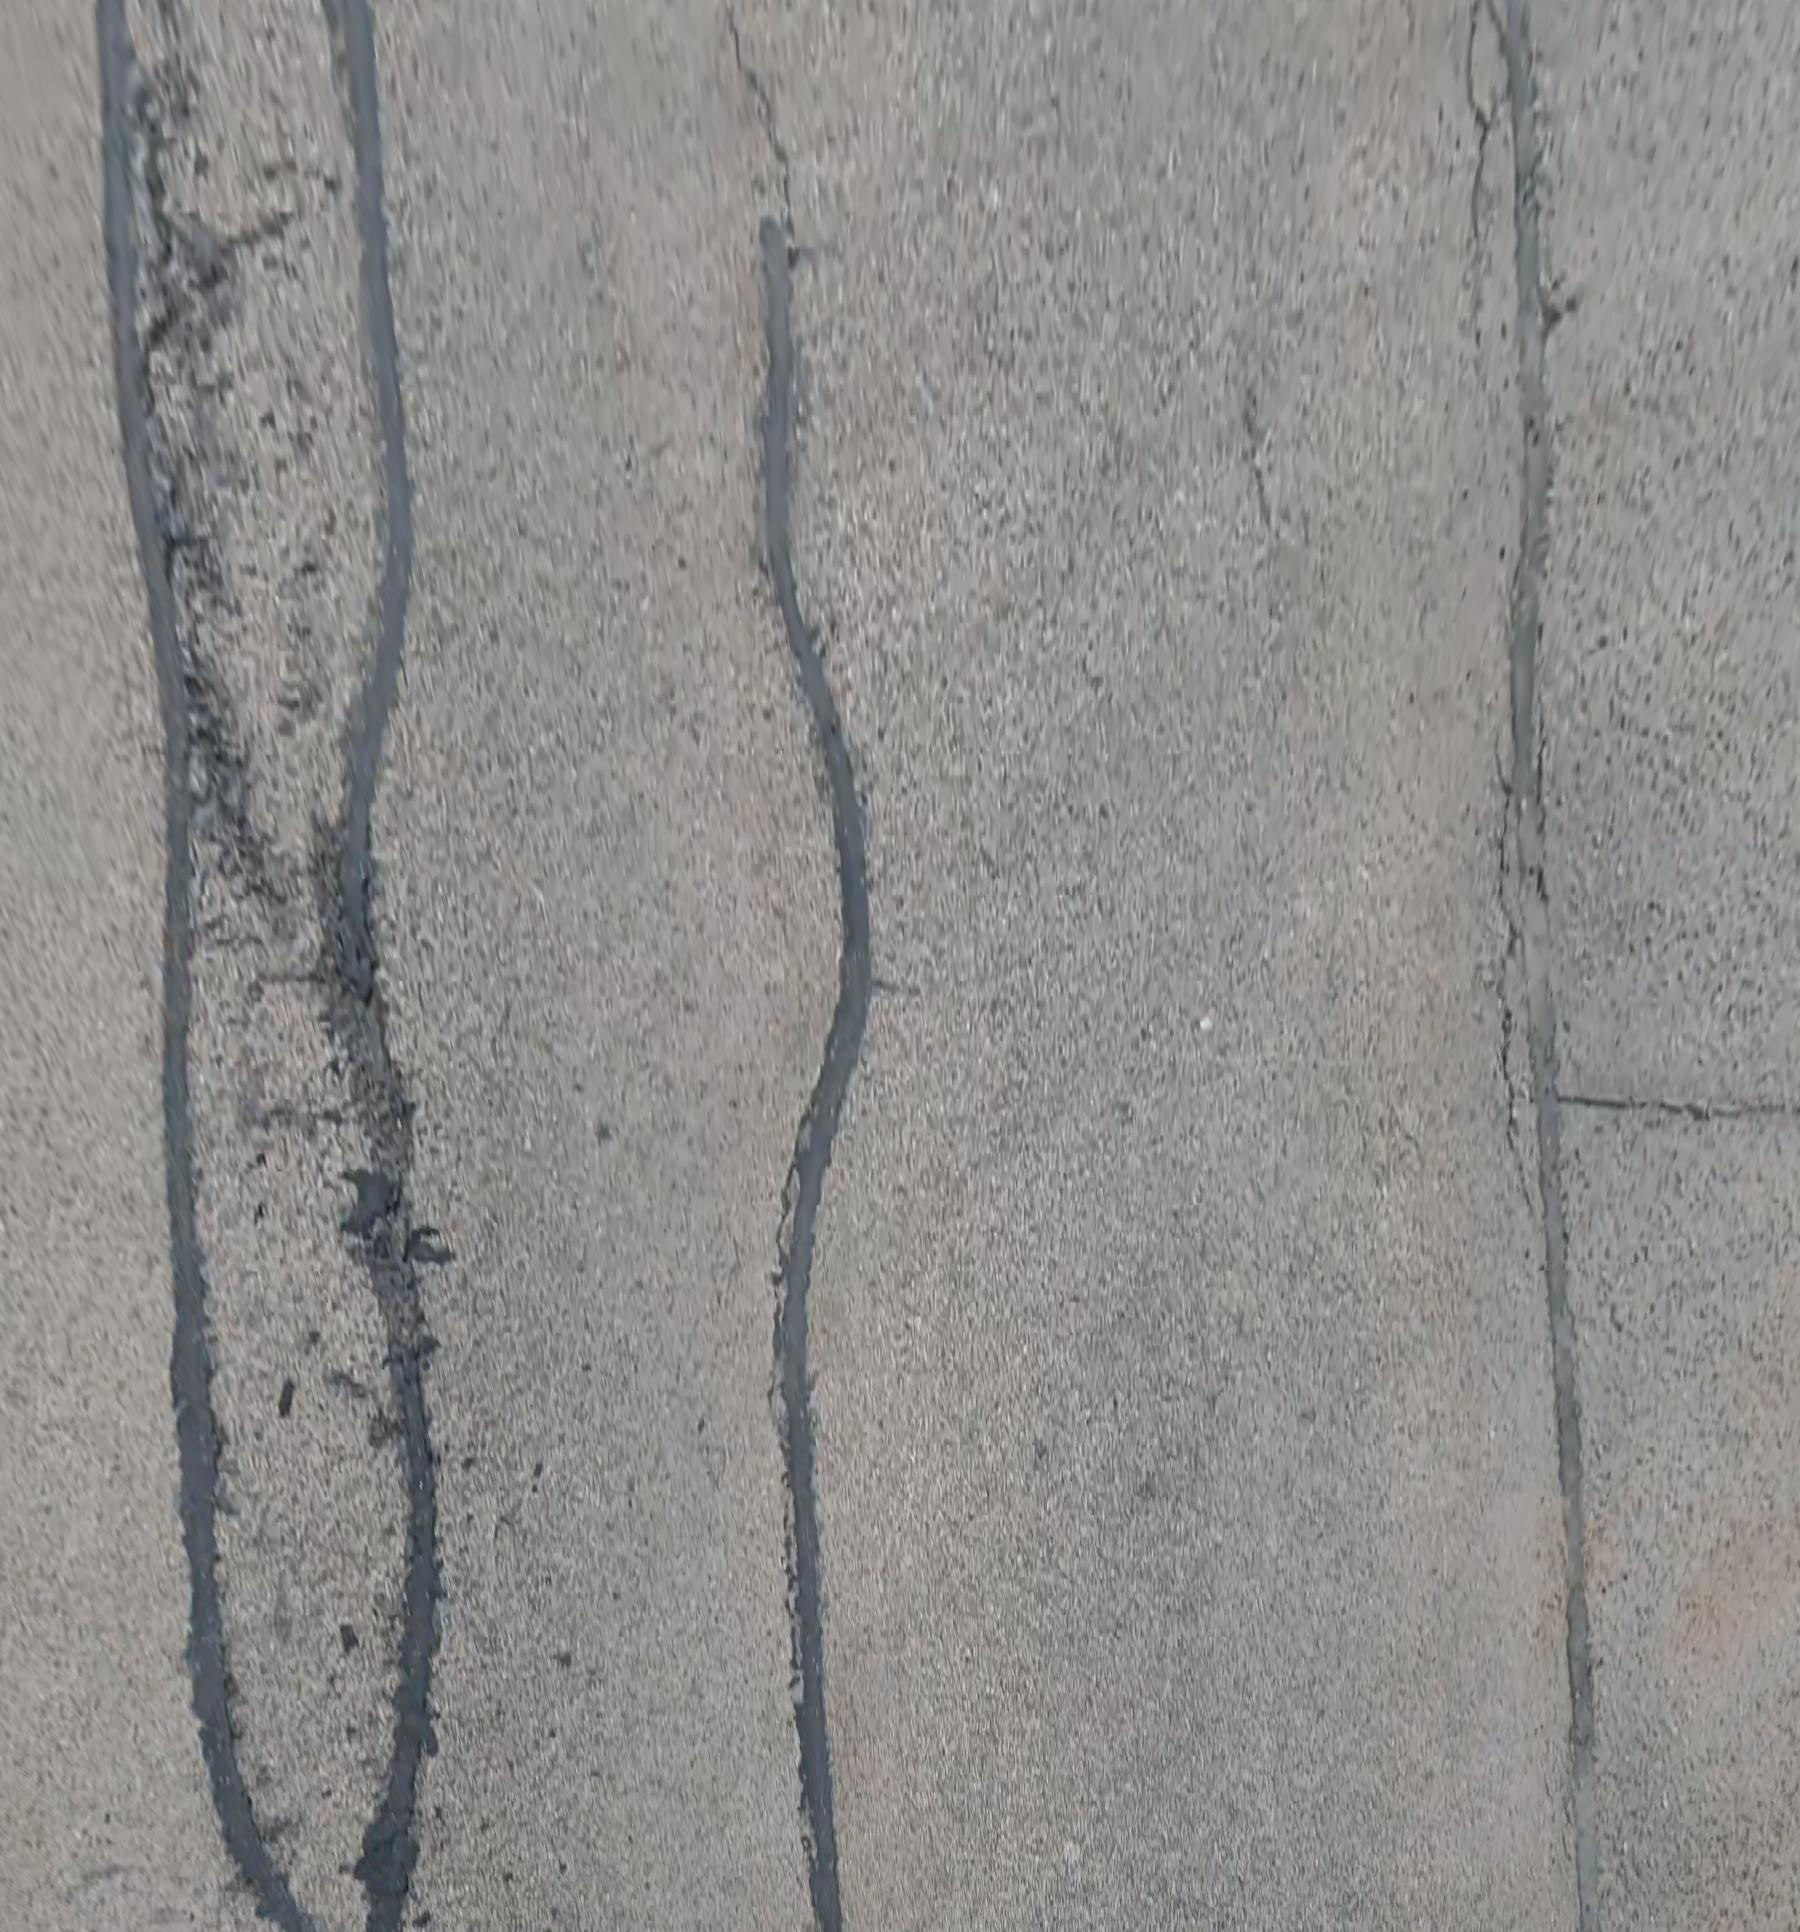pothole: (120, 96, 189, 606), (173, 667, 232, 844)
